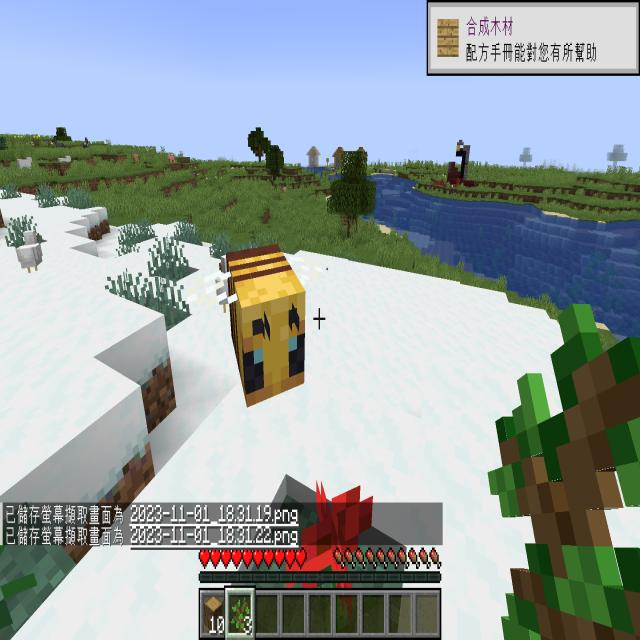bee: (206, 223, 322, 415)
chicken: (13, 219, 45, 279)
pig: (130, 147, 146, 169), (279, 182, 292, 200), (166, 149, 178, 168)
